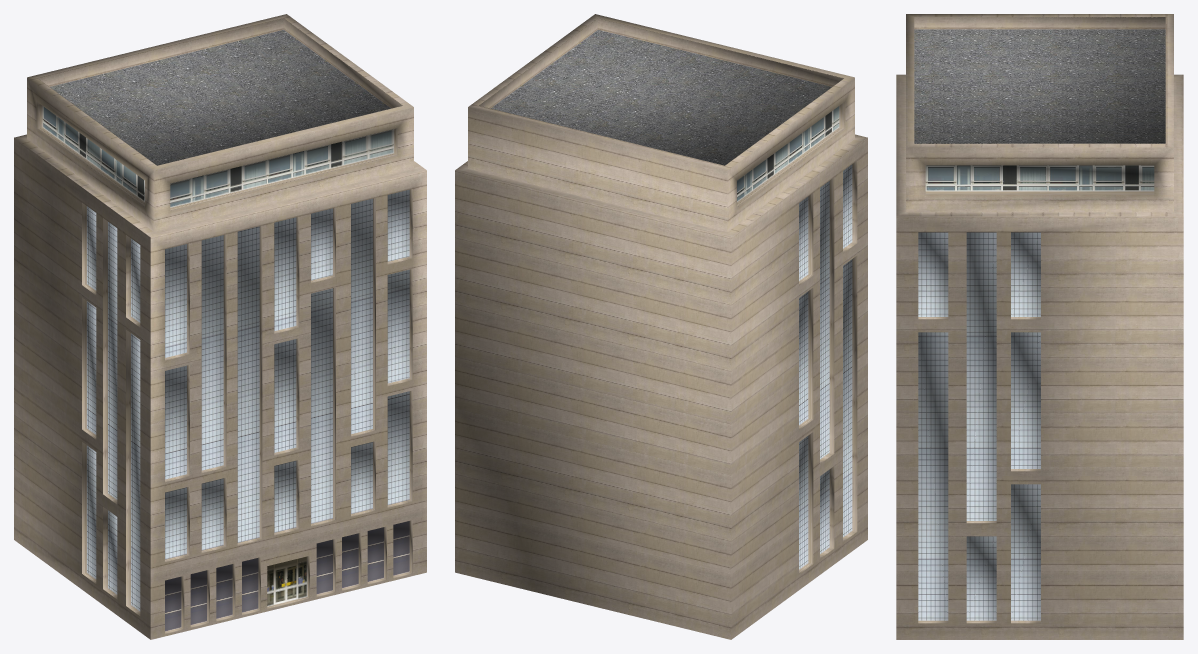
File: edificio2.obj
3 views of the same model, side by side, from view 1: azimuth 30°, elevation 25°; view 2: azimuth 150°, elevation 25°; view 3: azimuth 270°, elevation 25° (orthographic). The views are drawn at different scales.
Visible parts, largest first — view 1: Building11; view 2: Building11; view 3: Building11.
Part boxes in pixels (bbox=[...]): Building11: bbox=[14, 14, 426, 639]; Building11: bbox=[455, 14, 867, 639]; Building11: bbox=[896, 14, 1183, 639].
Bounding box in the file's own units: 139 × 223 × 119.
1 material, 1 textured.
